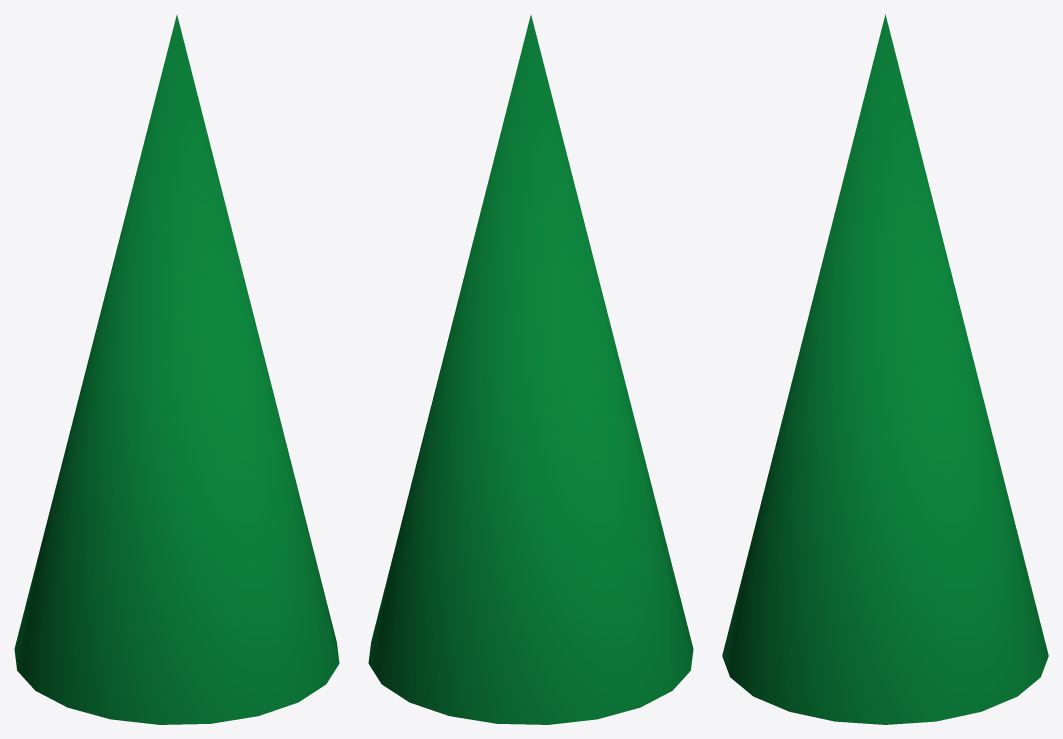
The model's file is pino_01.fbx.
3 views of the same model, side by side, from view 1: azimuth 30°, elevation 25°; view 2: azimuth 150°, elevation 25°; view 3: azimuth 270°, elevation 25° (orthographic).
Parts seen in each view (by area): view 1: Pino_01; view 2: Pino_01; view 3: Pino_01.
Boxes of the visible parts, x1,y1,x2,y2 form: Pino_01: (14, 15, 339, 724); Pino_01: (368, 15, 693, 724); Pino_01: (722, 14, 1048, 724).
Size of the model in its own units: 4.09 by 8.87 by 4.09.
